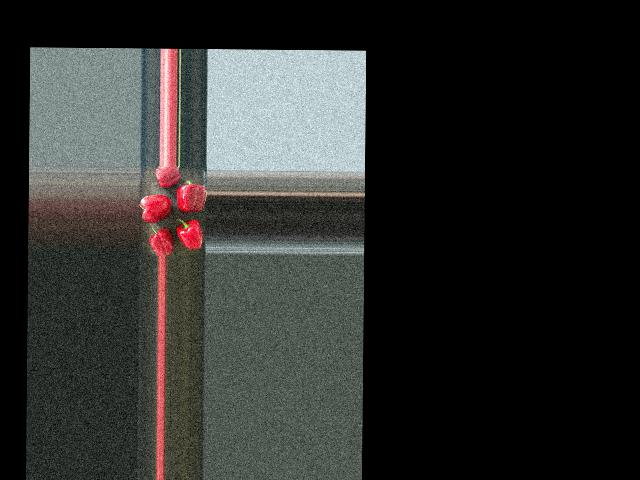bell_pepper: (150, 166, 181, 188)
